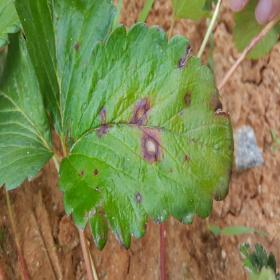Leaf Spot: (57, 22, 234, 252), (13, 0, 117, 144)
